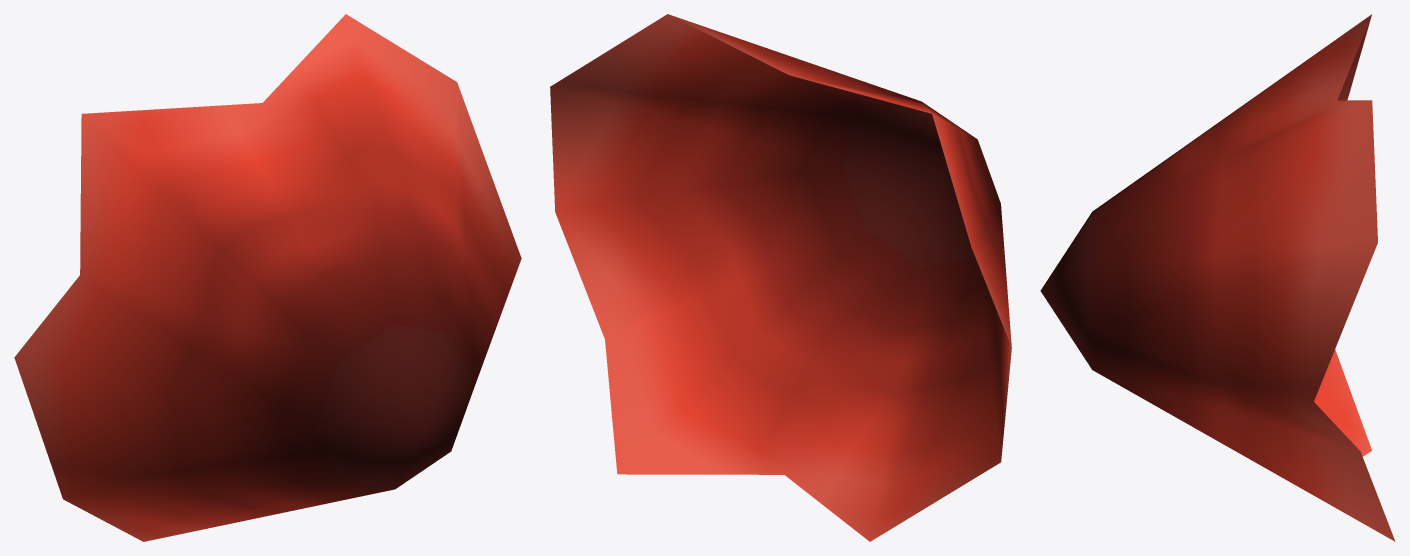
The model's file is batch_0065.obj.
3 views of the same model, side by side, from view 1: azimuth 30°, elevation 25°; view 2: azimuth 150°, elevation 25°; view 3: azimuth 270°, elevation 25° (orthographic). The views are drawn at different scales.
Parts seen in each view (by area): view 1: batch_0065; view 2: batch_0065; view 3: batch_0065.
Boxes of the visible parts, <box> form: batch_0065: <box>14,14,521,541</box>; batch_0065: <box>550,14,1011,541</box>; batch_0065: <box>1040,14,1395,541</box>.
Size of the model in its own units: 19.8 by 18.79 by 13.7.
Materials: 1 (1 with a texture image).
